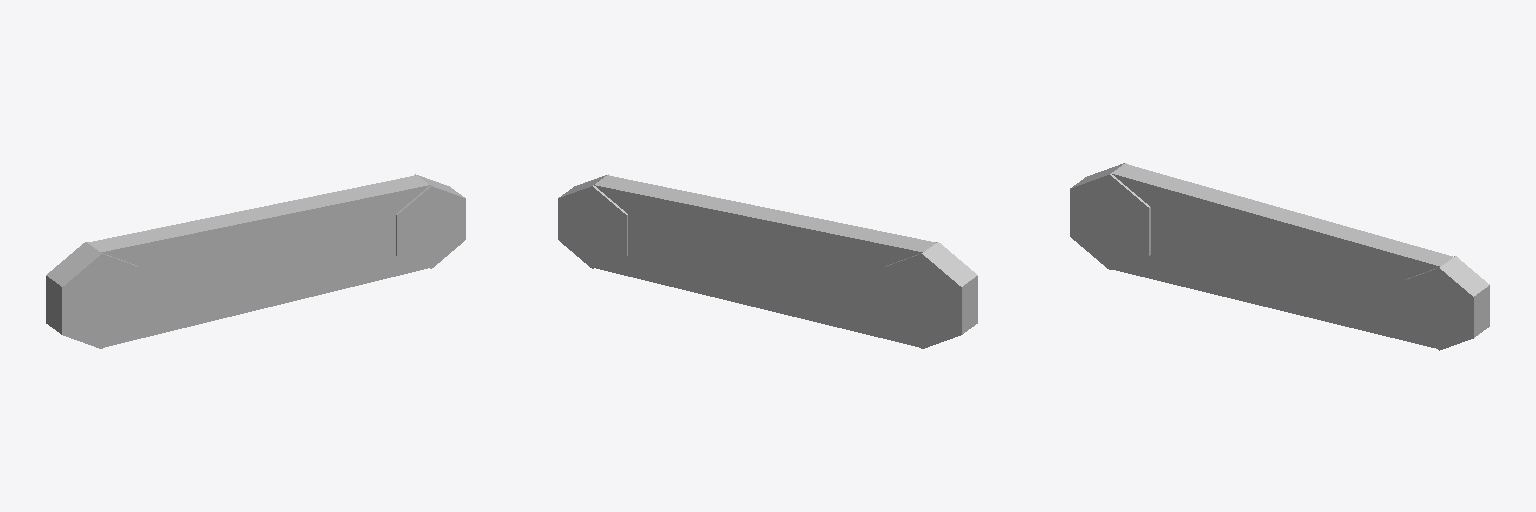
File: Arm.obj
3 views of the same model, side by side, from view 1: azimuth 30°, elevation 25°; view 2: azimuth 150°, elevation 25°; view 3: azimuth 330°, elevation 25° (orthographic).
Parts seen in each view (by area): view 1: Mesh1 Group1 Model; view 2: Mesh1 Group1 Model; view 3: Mesh1 Group1 Model.
Boxes of the visible parts, box(x1,y1,x2,y2) form: Mesh1 Group1 Model: box(46, 174, 465, 348); Mesh1 Group1 Model: box(558, 174, 977, 348); Mesh1 Group1 Model: box(1070, 163, 1489, 350).
Size of the model in its own units: 30.62 by 6.95 by 2.17.